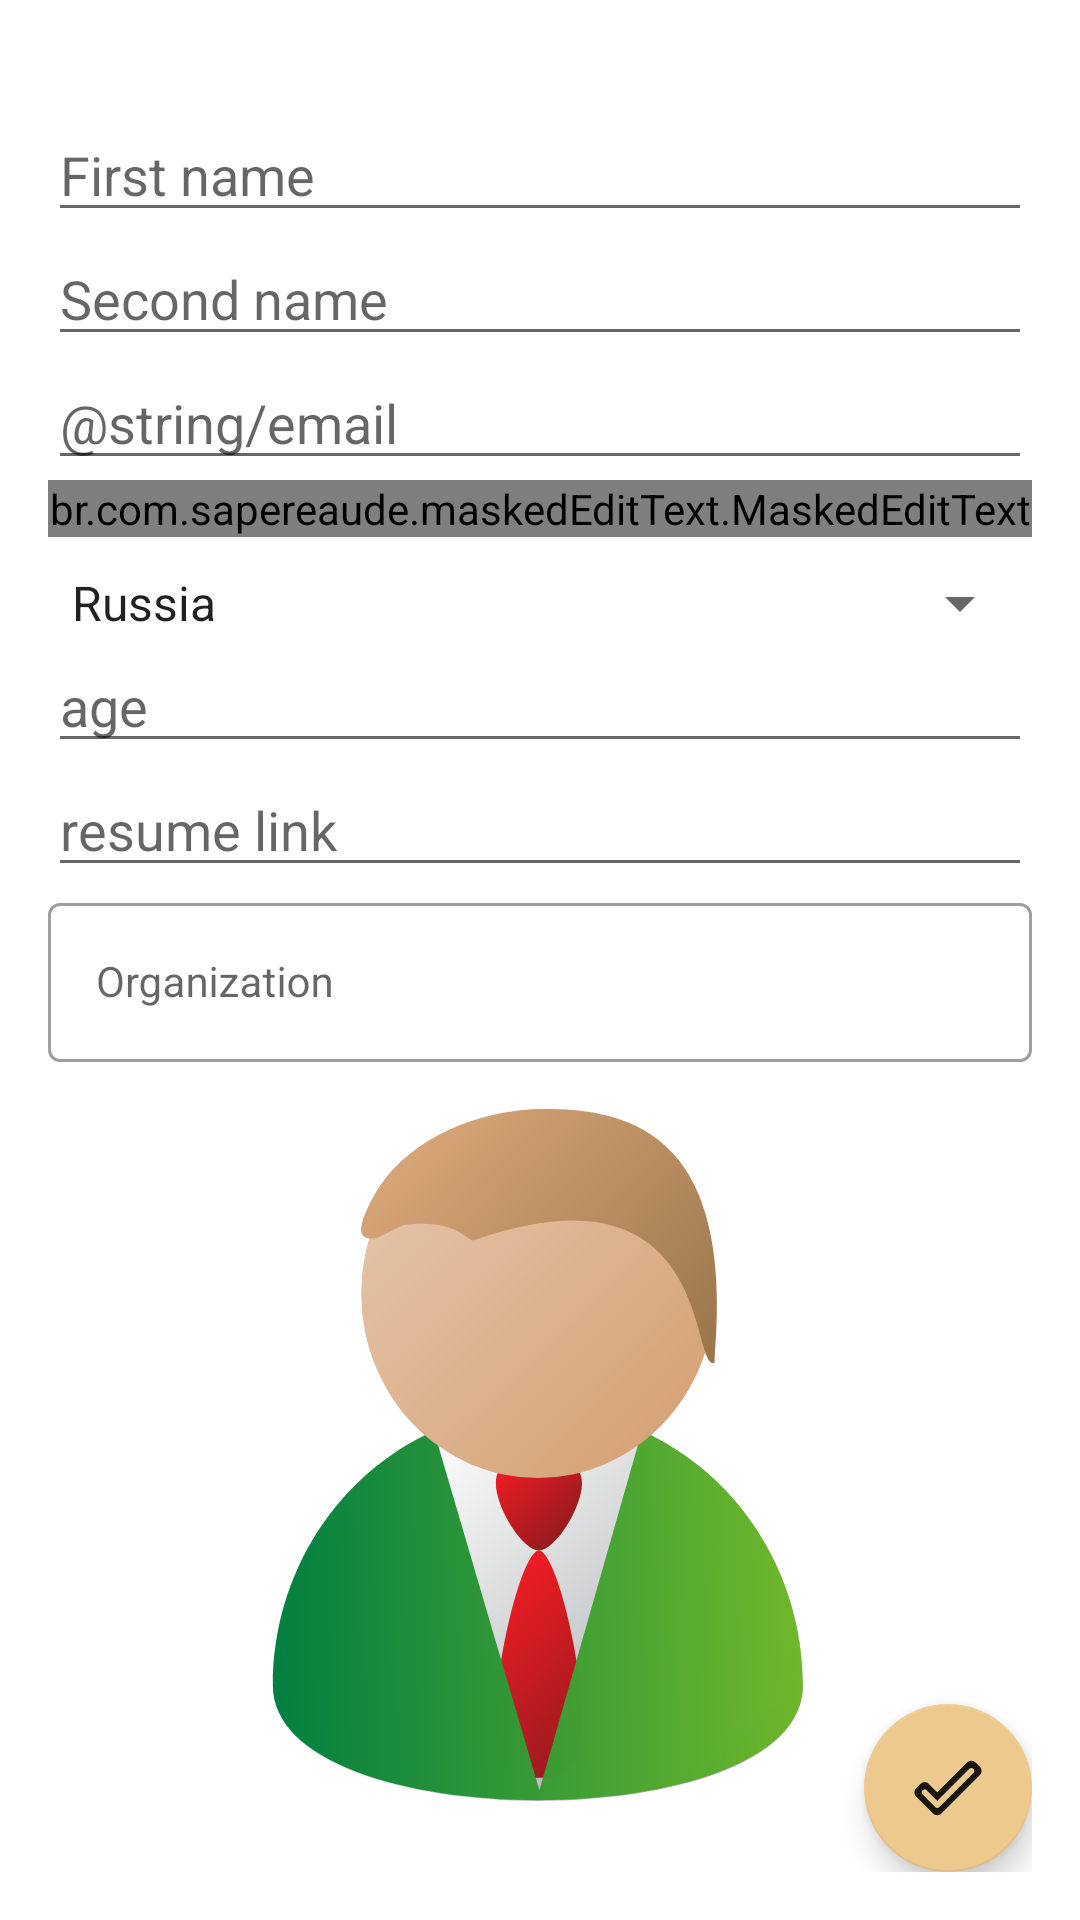

Icon bounding boxes for this 1080w x 1920h phone screenshot, format (x1, y1, x2, y2):
done: (864, 1704, 1032, 1872)
